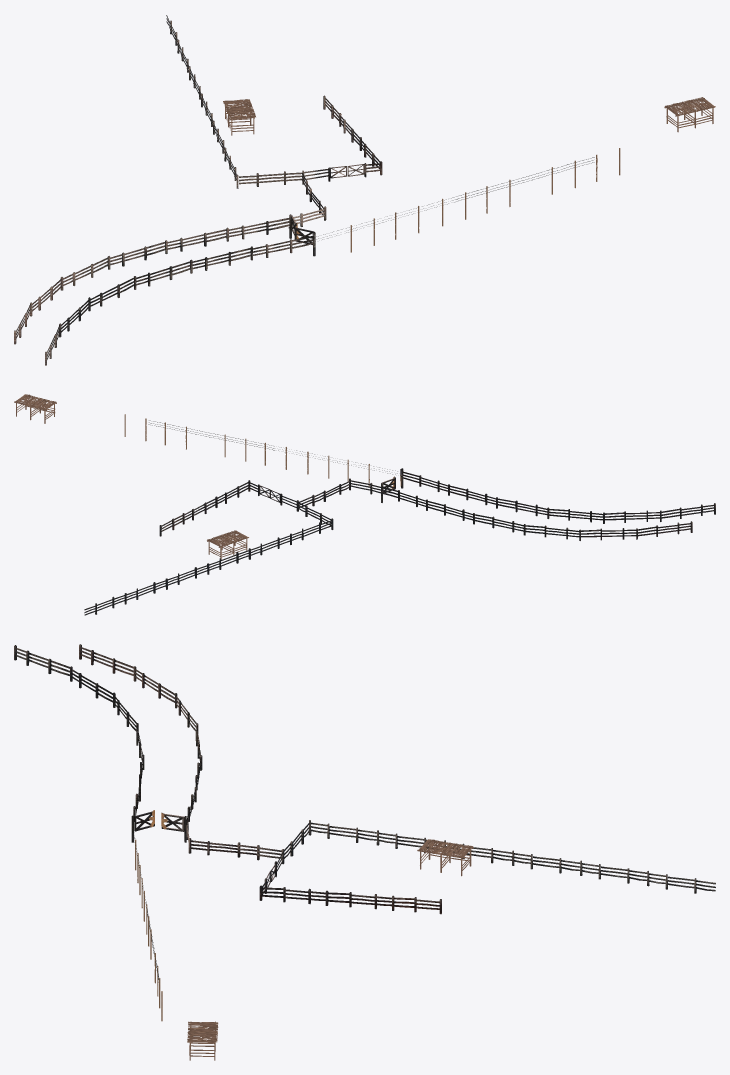
File: Cercas.glb
3 renders of one model, top to bottom at view 1: azimuth 30°, elevation 25°; view 2: azimuth 150°, elevation 25°; view 3: azimuth 270°, elevation 25°, orthographic. The views are drawn at different scales.
Visible parts, largest first — view 1: Cercas_CercaLonge01, Cercas_CercaMedia01, Cercas_Cocho02, Cercas_CercaLonge03, Cercas_CercaPróxima01, Cercas_Cocho01; view 2: Cercas_CercaLonge01, Cercas_CercaLonge03, Cercas_CercaMedia01, Cercas_CercaPróxima01, Cercas_Cocho01, Cercas_Cocho02, Cercas_CercaLonge02; view 3: Cercas_CercaLonge01, Cercas_CercaLonge03, Cercas_CercaPróxima01, Cercas_CercaMedia01, Cercas_Cocho01, Cercas_CercaLonge02, Cercas_Cocho02.
Part boxes in pixels (x1,y1,x2,y2): Cercas_CercaLonge01: [14, 218, 312, 365]; Cercas_CercaMedia01: [239, 137, 382, 186]; Cercas_Cocho02: [664, 97, 715, 132]; Cercas_CercaLonge03: [166, 15, 238, 188]; Cercas_CercaPróxima01: [277, 173, 326, 256]; Cercas_Cocho01: [223, 99, 255, 135]; Cercas_CercaLonge01: [381, 471, 715, 540]; Cercas_CercaLonge03: [84, 518, 333, 615]; Cercas_CercaMedia01: [215, 480, 331, 525]; Cercas_CercaPróxima01: [298, 468, 403, 507]; Cercas_Cocho01: [207, 530, 248, 559]; Cercas_Cocho02: [14, 394, 56, 423]; Cercas_CercaLonge02: [159, 498, 215, 536]; Cercas_CercaLonge01: [14, 644, 202, 824]; Cercas_CercaLonge03: [308, 820, 715, 893]; Cercas_CercaPróxima01: [131, 810, 281, 860]; Cercas_CercaMedia01: [259, 822, 328, 905]; Cercas_Cocho01: [417, 839, 473, 876]; Cercas_CercaLonge02: [328, 892, 441, 914]; Cercas_Cocho02: [187, 1021, 218, 1060].
Bounding box in the file's own units: 94.81 × 4.1 × 69.49.
3 materials, 2 textured.
